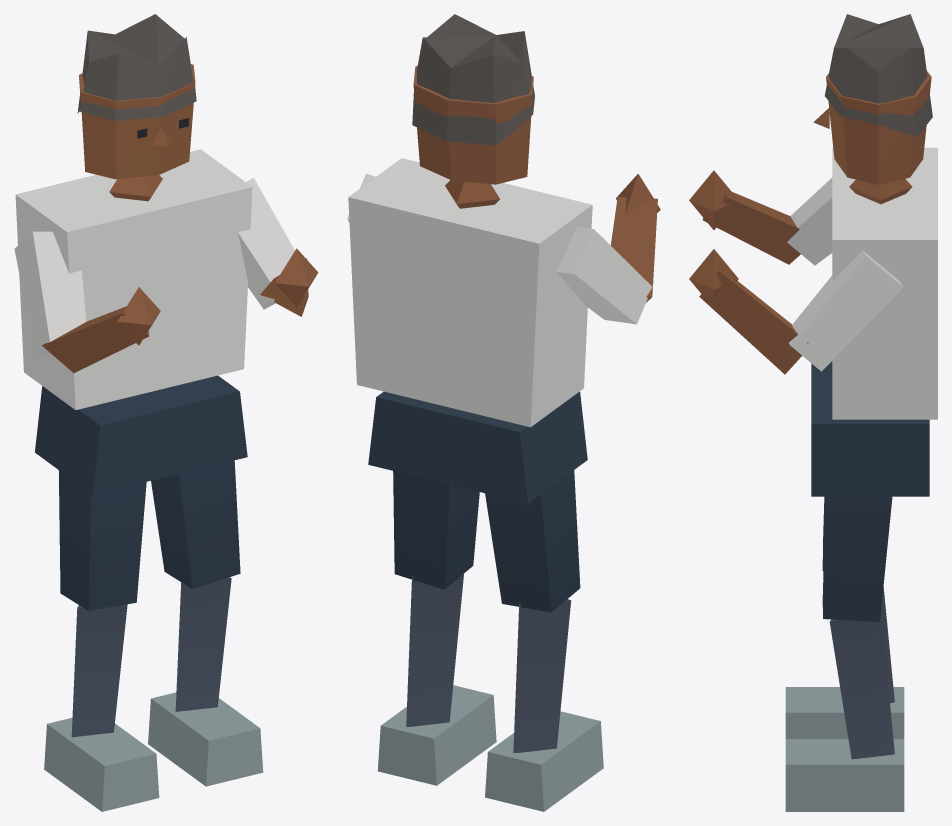
The model's file is fan-12.glb.
The picture shows the model from 3 angles, left to right: view 1: azimuth 30°, elevation 25°; view 2: azimuth 150°, elevation 25°; view 3: azimuth 270°, elevation 25°; orthographic projection. The views are drawn at different scales.
Parts seen in each view (by area): view 1: fan-12; view 2: fan-12; view 3: fan-12.
Boxes of the visible parts, bbox=[...] form: fan-12: bbox=[14, 14, 318, 811]; fan-12: bbox=[347, 14, 660, 811]; fan-12: bbox=[689, 14, 937, 811].
Size of the model in its own units: 0.7384 by 1.93 by 0.589.
